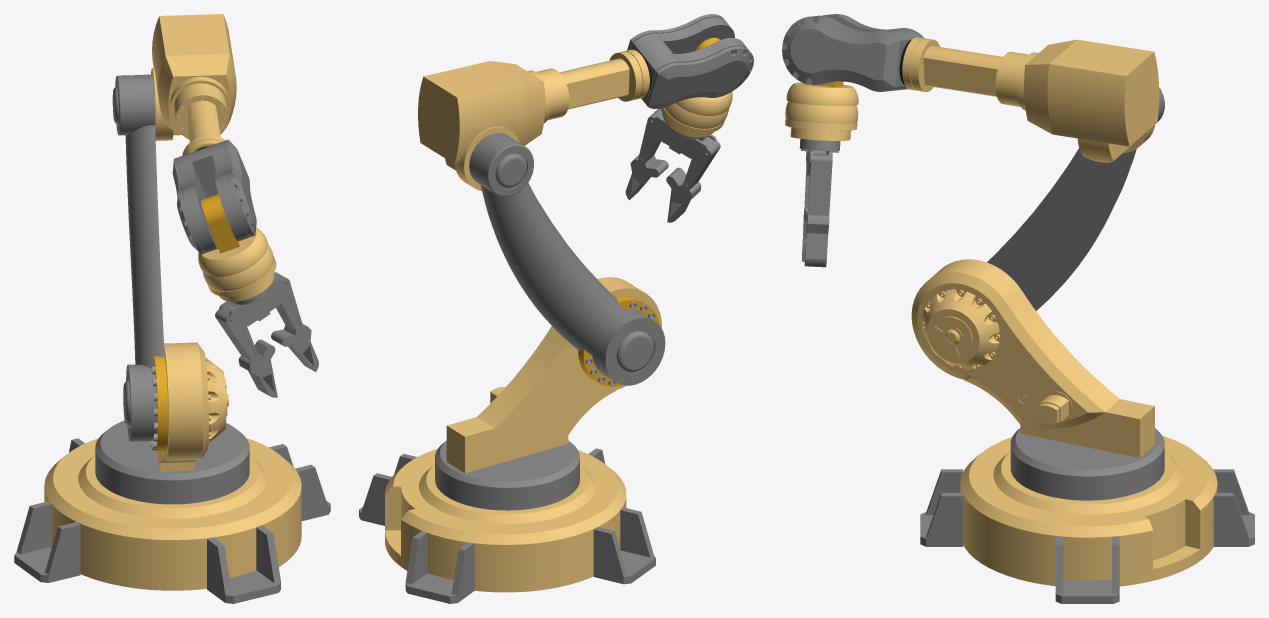
File: INDUSTRIAL ROBOTIC ARM.fbx
3 renders of one model, left to right at view 1: azimuth 30°, elevation 25°; view 2: azimuth 150°, elevation 25°; view 3: azimuth 270°, elevation 25°, orthographic. The views are drawn at different scales.
Parts seen in each view (by area): view 1: Body1 (×19); view 2: Body1 (×18); view 3: Body1 (×16).
Part boxes in pixels (left/top/right/bottom): Body1 (×19): left=14, top=14, right=330, bottom=603; Body1 (×18): left=359, top=14, right=753, bottom=603; Body1 (×16): left=782, top=14, right=1254, bottom=603.
Bounding box in the file's own units: 390 × 633 × 552.
